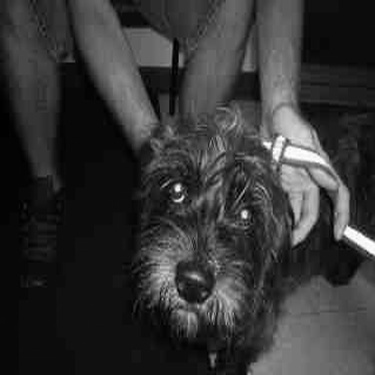dog: (119, 89, 371, 372)
